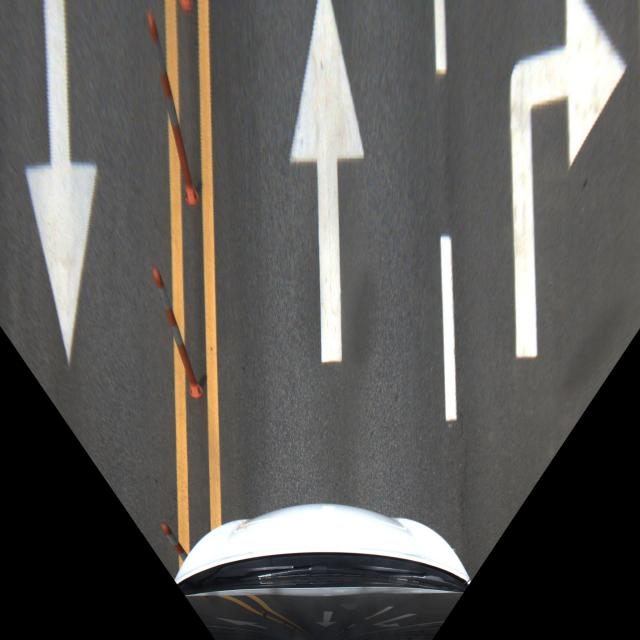right: (429, 0, 635, 433)
